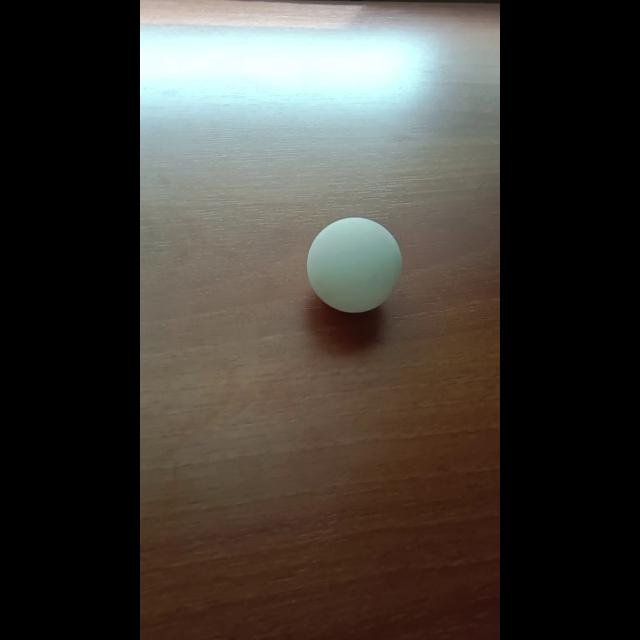white ball: (306, 215, 402, 313)
